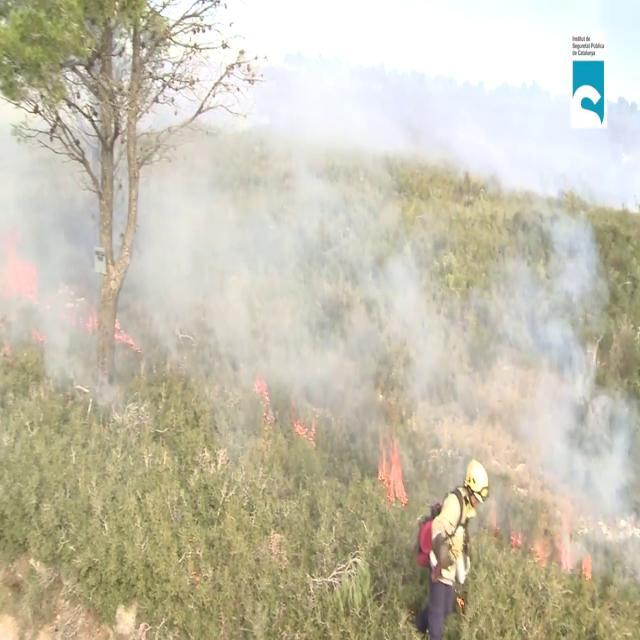Fire: (374, 428, 408, 510)
Smoke: (1, 3, 635, 442), (494, 200, 640, 580)
